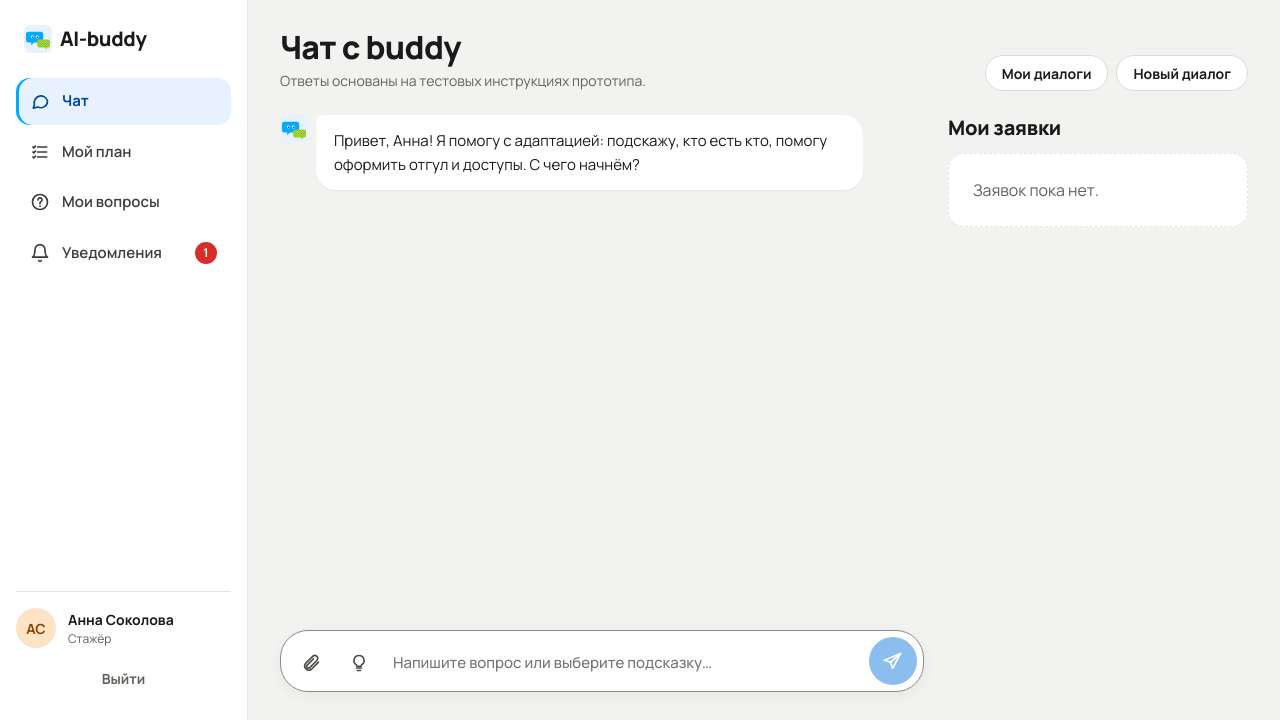
Scenario: scripted answers › S2_R02: "Как оформить отгул?" gives three steps and a test source, no request
Step 1. Type "Как оформить отгул?" into the dropdown named "Сообщение" → (625, 664), box [385,642,865,685]
Then press Enter
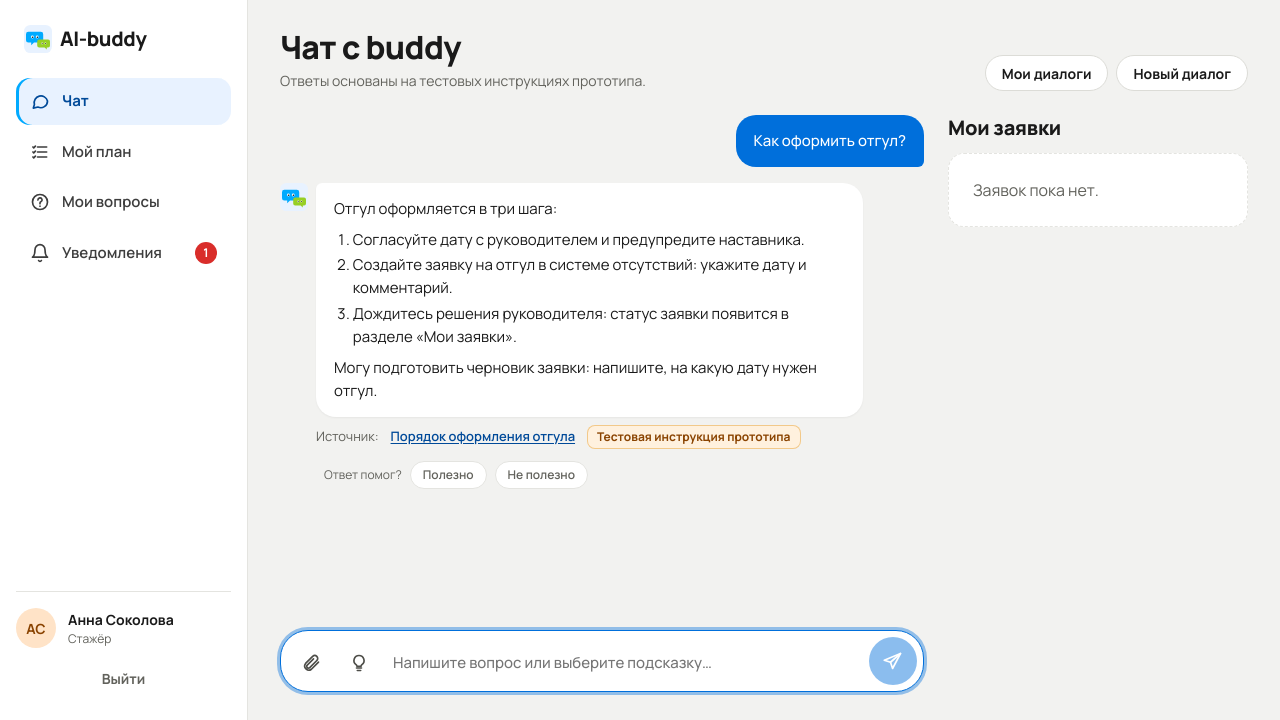
Check: the text "Отгул оформляется в три шага:" is shown, box [334,198,557,219]
Check: the list item "Дождитесь решения руководителя" is shown, box [353,303,789,347]
Check: the button "Порядок оформления отгула" is shown, box [387,425,579,448]
